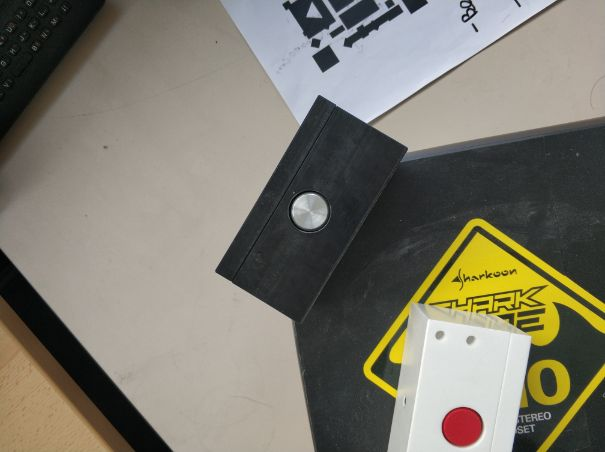black+black+silver: (208, 93, 410, 329)
white+white+red: (383, 298, 532, 452)
